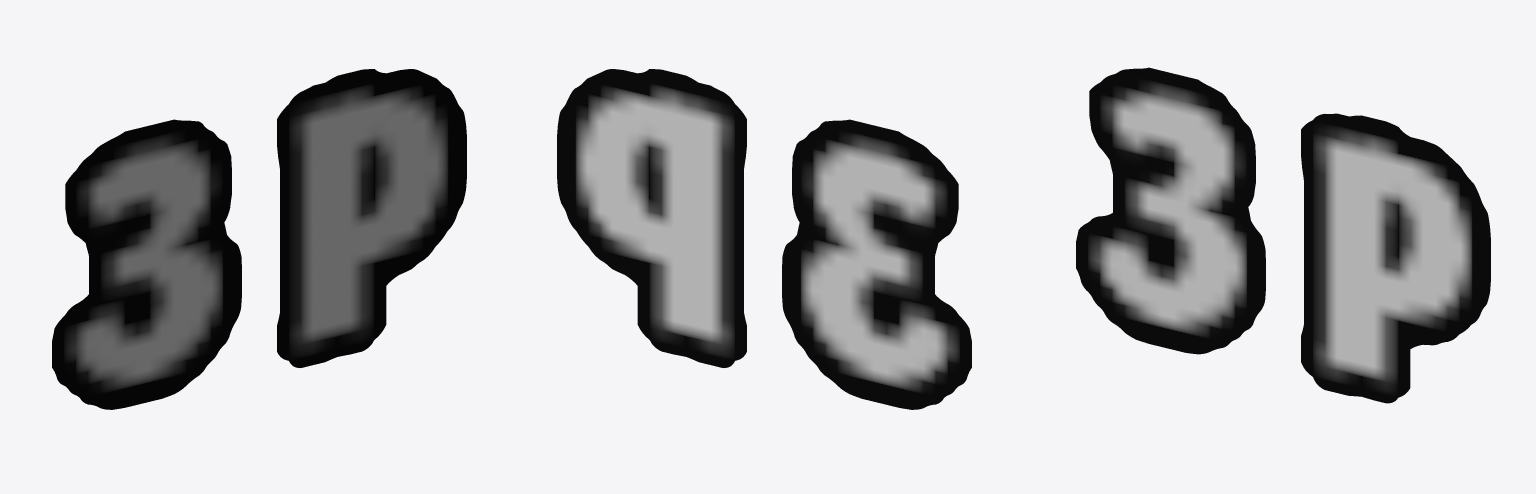
The picture shows the model from 3 angles, left to right: view 1: azimuth 30°, elevation 25°; view 2: azimuth 150°, elevation 25°; view 3: azimuth 330°, elevation 25°; orthographic projection.
Parts seen in each view (by area): view 1: Joint_0_Object_0; view 2: Joint_0_Object_0; view 3: Joint_0_Object_0.
Part boxes in pixels (bbox=[...]): Joint_0_Object_0: bbox=[52, 69, 466, 409]; Joint_0_Object_0: bbox=[557, 69, 971, 409]; Joint_0_Object_0: bbox=[1076, 67, 1490, 403].
Bounding box in the file's own units: 26.39 × 18.14 × 0.
Materials: 1 (1 with a texture image).
